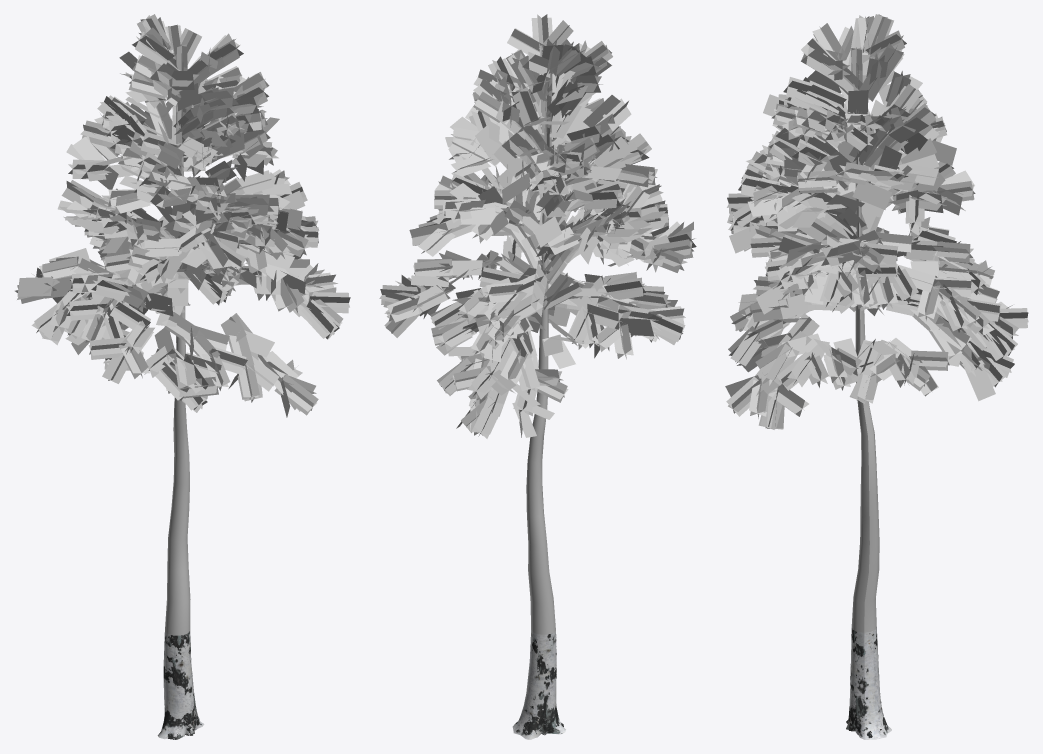
Rendered from 00 _pine 1 lod2.FBX.
3 renders of one model, left to right at view 1: azimuth 30°, elevation 25°; view 2: azimuth 150°, elevation 25°; view 3: azimuth 270°, elevation 25°, orthographic.
Parts seen in each view (by area): view 1: pine 003; view 2: pine 003; view 3: pine 003.
Part boxes in pixels (x1,y1,x2,y2): pine 003: (15, 14, 350, 739); pine 003: (379, 14, 696, 739); pine 003: (725, 14, 1028, 739).
Bounding box in the file's own units: 3.56 × 8.41 × 3.28.
